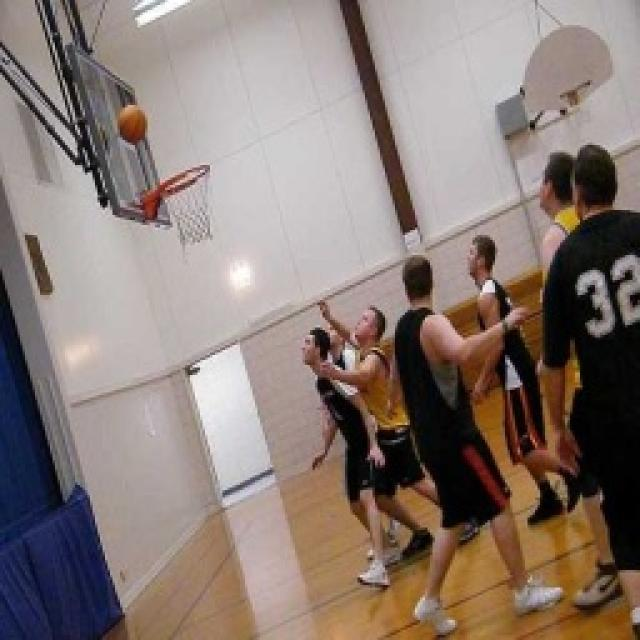rim: (112, 97, 153, 147)
